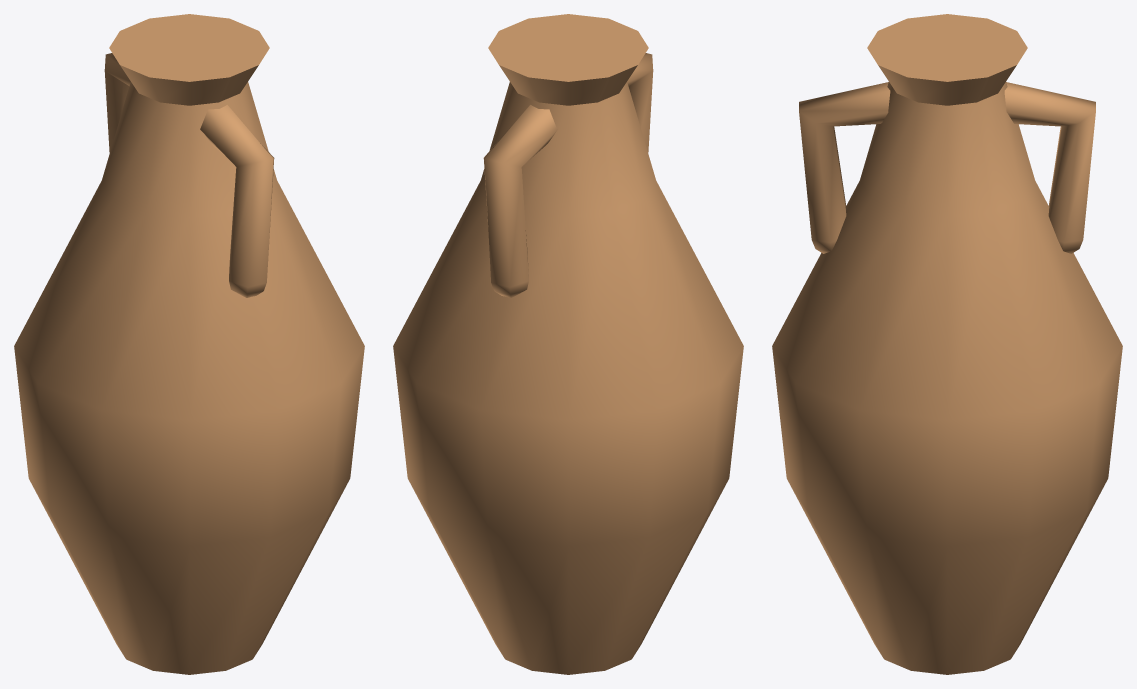
File: amphora.fbx
3 views of the same model, side by side, from view 1: azimuth 30°, elevation 25°; view 2: azimuth 150°, elevation 25°; view 3: azimuth 270°, elevation 25° (orthographic).
Parts seen in each view (by area): view 1: amphora; view 2: amphora; view 3: amphora.
Boxes of the visible parts, <box> form: amphora: <box>14,14,364,674</box>; amphora: <box>393,14,743,674</box>; amphora: <box>772,14,1122,674</box>.
Size of the model in its own units: 0.0806 by 0.1512 by 0.0806.
